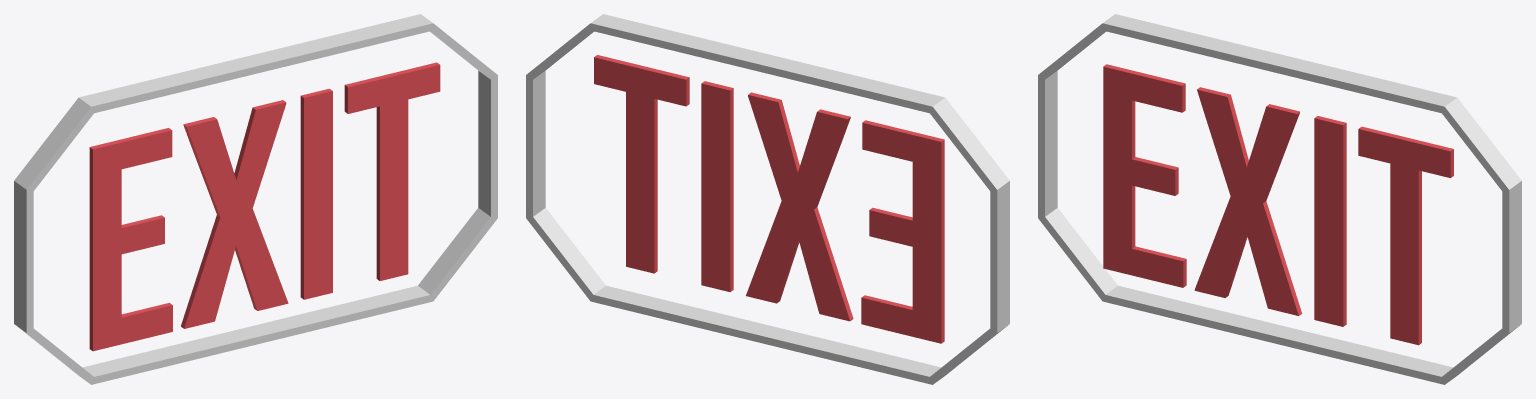
Rendered from 出口转.fbx.
3 views of the same model, side by side, from view 1: azimuth 30°, elevation 25°; view 2: azimuth 150°, elevation 25°; view 3: azimuth 330°, elevation 25° (orthographic).
Parts seen in each view (by area): view 1: Plane; view 2: Plane; view 3: Plane.
Boxes of the visible parts, bbox=[...] form: Plane: bbox=[14, 14, 497, 384]; Plane: bbox=[526, 14, 1009, 384]; Plane: bbox=[1038, 14, 1521, 384].
Size of the model in its own units: 77.21 by 43.58 by 3.74.
